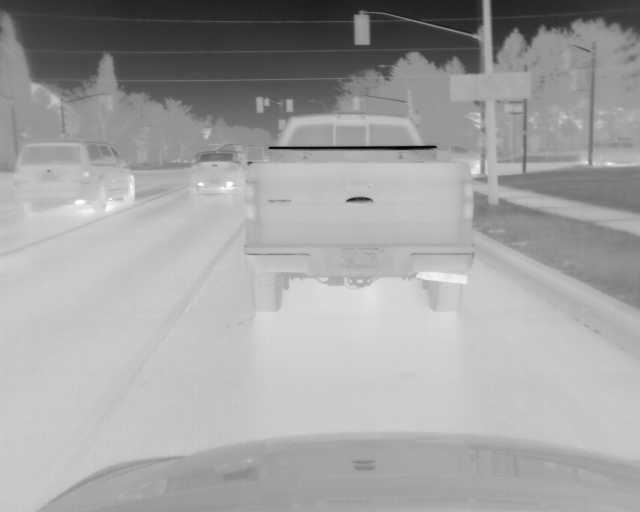car: (240, 111, 474, 314), (13, 138, 135, 215), (187, 149, 241, 196), (582, 137, 640, 169), (444, 146, 487, 175)
